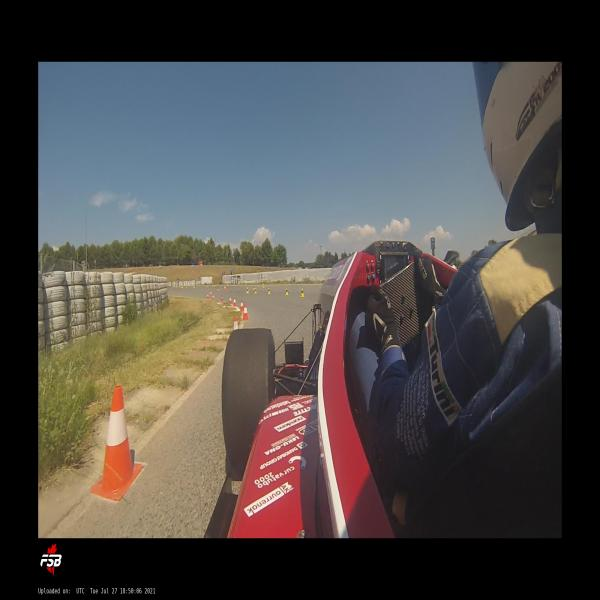orange_cone: (90, 385, 142, 501), (232, 316, 240, 331), (243, 305, 248, 320), (240, 300, 244, 311), (233, 298, 236, 306), (229, 296, 231, 304), (221, 295, 223, 301)
yellow_cone: (300, 288, 304, 297), (285, 287, 289, 295), (267, 288, 271, 294), (246, 286, 249, 294), (254, 288, 257, 294), (253, 285, 255, 290), (263, 284, 264, 288)
